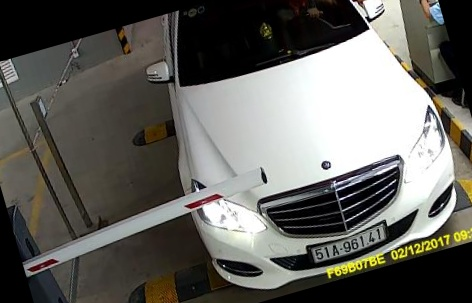plate: (288, 222, 391, 262)
